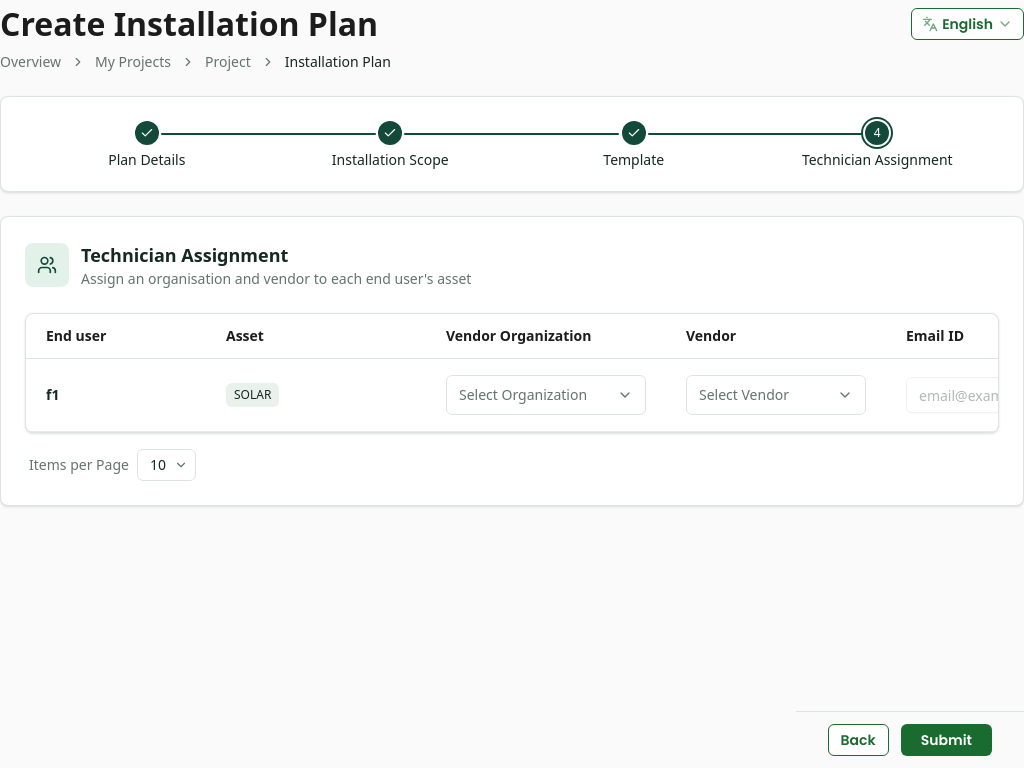
Test: CreateInstallationPlanPage › shows the validation errors when submitting fails vendor-assignment validation
Click the button "Submit": (946, 740) [901, 724, 992, 756]
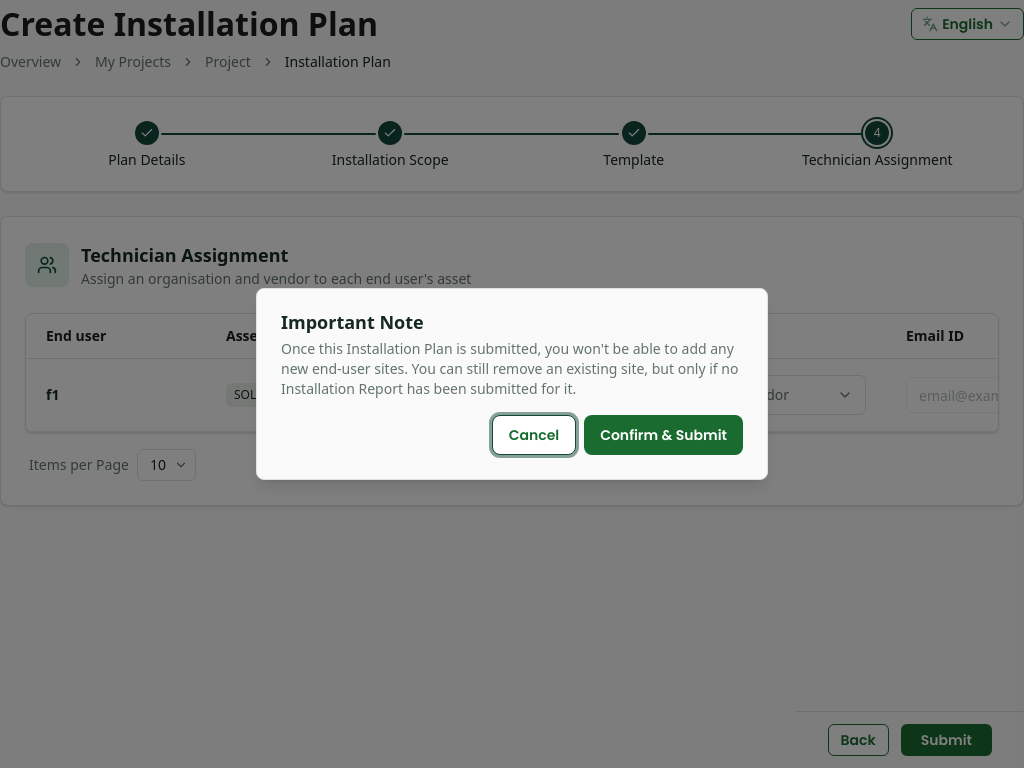
Click the button "Confirm & Submit": (664, 435) [584, 415, 743, 455]
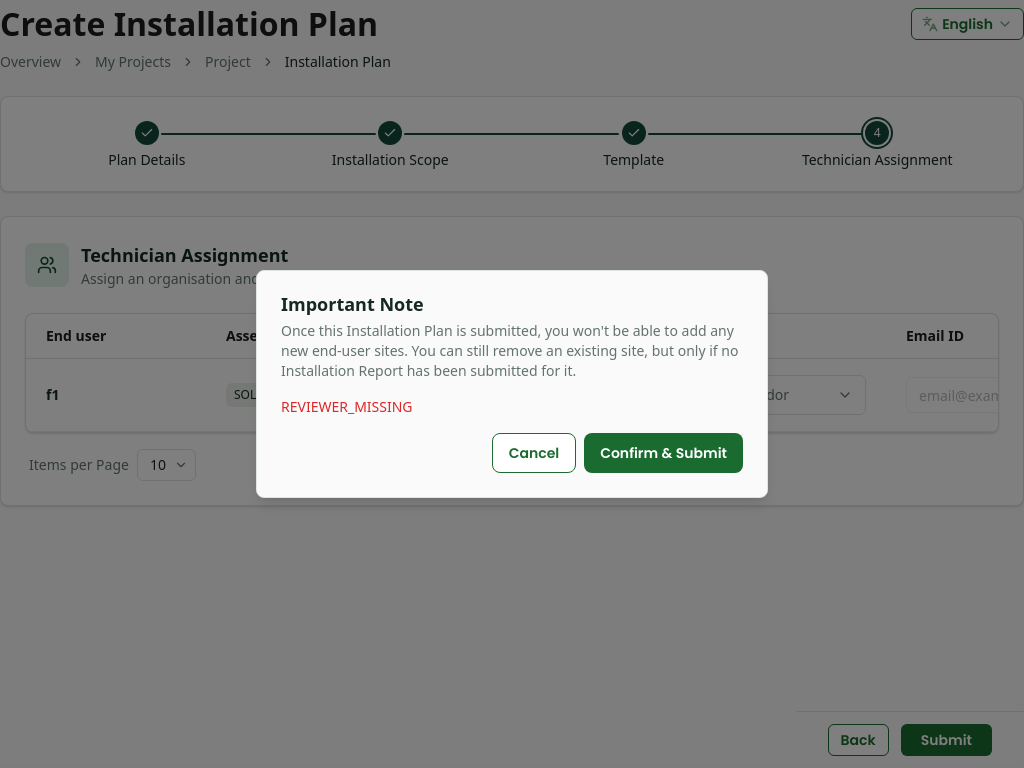
Expected: the text "REVIEWER_MISSING" is shown, [281, 397, 412, 416]
